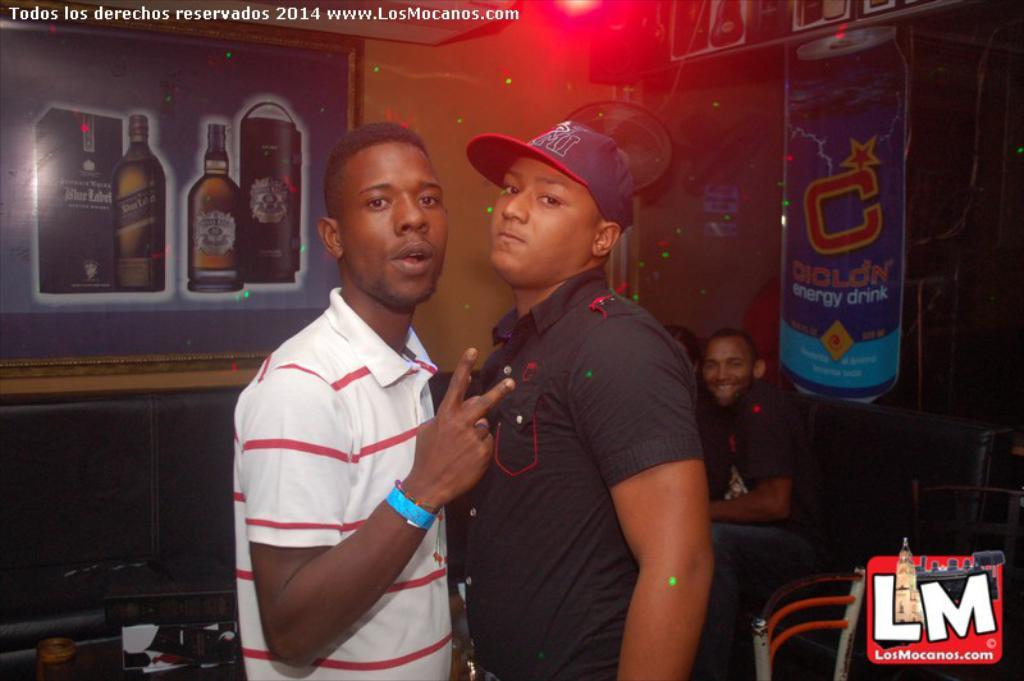Hat: (462, 118, 632, 238)
